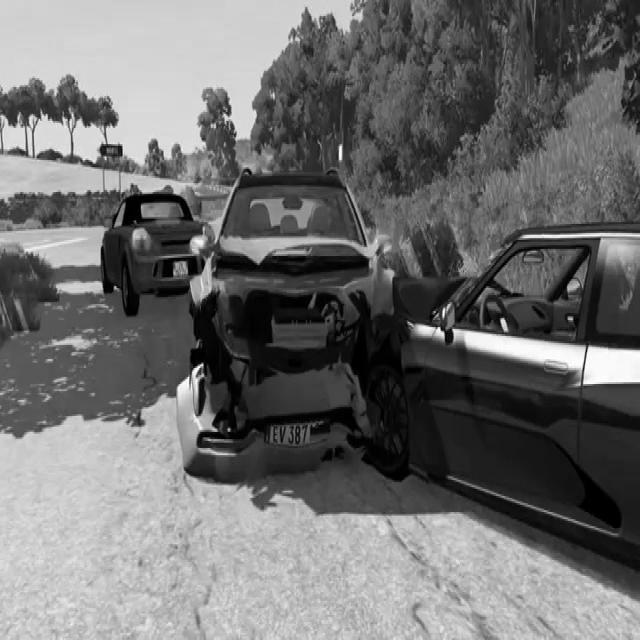moderate: (163, 135, 640, 589)
